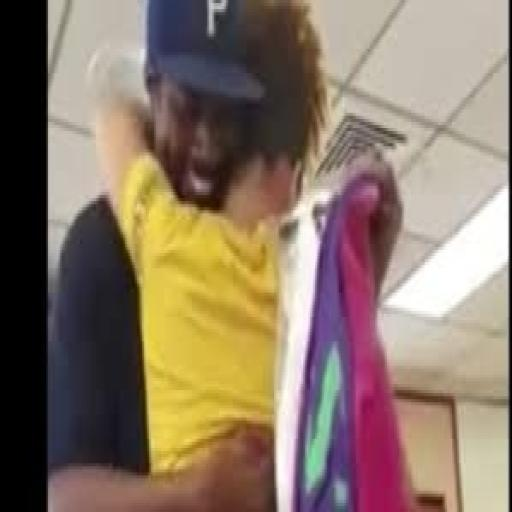hugging: (46, 0, 425, 509)
